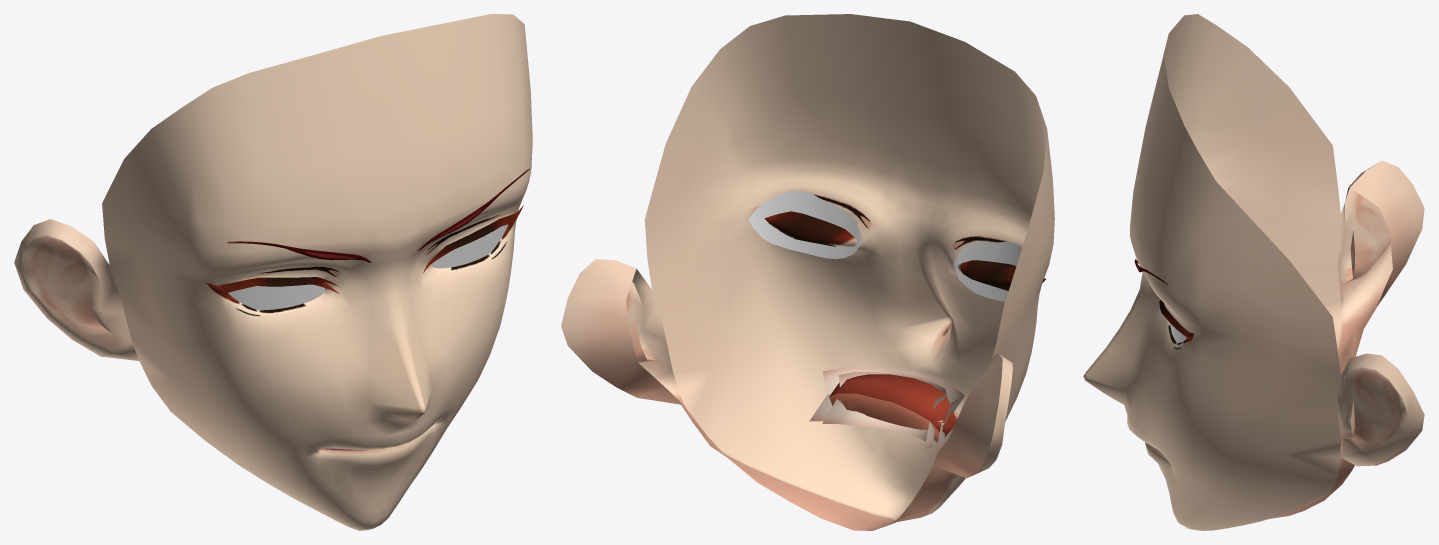
The model's file is Rinne.fbx.
The picture shows the model from 3 angles, left to right: view 1: azimuth 30°, elevation 25°; view 2: azimuth 150°, elevation 25°; view 3: azimuth 270°, elevation 25°; orthographic projection. The views are drawn at different scales.
Parts seen in each view (by area): view 1: M_Head, M_Eye_B_Def, M_Mth_B_Def, M_PupALL_R_A_Def, M_Brw_B_Def, M_PupALL_L_A_Def; view 2: M_Head, M_Mth_B_Def, M_Eye_B_Def, M_PupALL_L_A_Def, M_PupALL_R_A_Def; view 3: M_Head, M_Mth_B_Def, M_Eye_B_Def.
Boxes of the visible parts, left/top/right/bottom form: M_Head: left=14, top=14, right=532, bottom=408; M_Eye_B_Def: left=188, top=141, right=532, bottom=412; M_Mth_B_Def: left=139, top=355, right=489, bottom=530; M_PupALL_R_A_Def: left=228, top=284, right=325, bottom=310; M_Brw_B_Def: left=227, top=168, right=529, bottom=262; M_PupALL_L_A_Def: left=431, top=224, right=508, bottom=268; M_Head: left=561, top=14, right=1054, bottom=478; M_Mth_B_Def: left=679, top=318, right=1016, bottom=530; M_Eye_B_Def: left=726, top=137, right=1054, bottom=362; M_PupALL_L_A_Def: left=748, top=190, right=862, bottom=259; M_PupALL_R_A_Def: left=953, top=241, right=1021, bottom=301; M_Head: left=1133, top=14, right=1424, bottom=466; M_Mth_B_Def: left=1084, top=323, right=1363, bottom=530; M_Eye_B_Def: left=1083, top=123, right=1202, bottom=443.
Bounding box in the file's own units: 0.1625 × 0.1707 × 0.1117.
5 materials, 3 textured.
